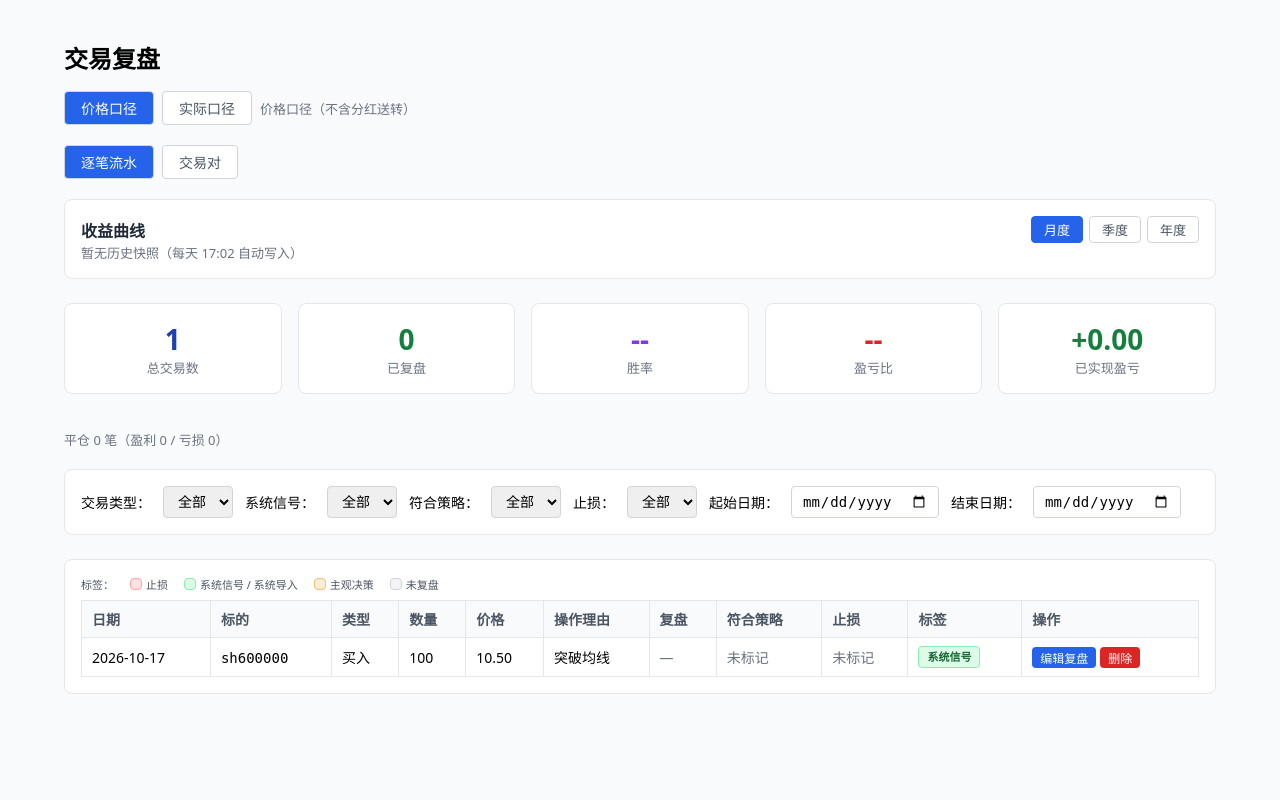
Review · 编辑复盘 3 态弹窗 › 打开弹窗 → 两个三态组初始均为「未标记」选中
Click the button "编辑复盘" at (1064, 657), box [1032, 647, 1096, 668]
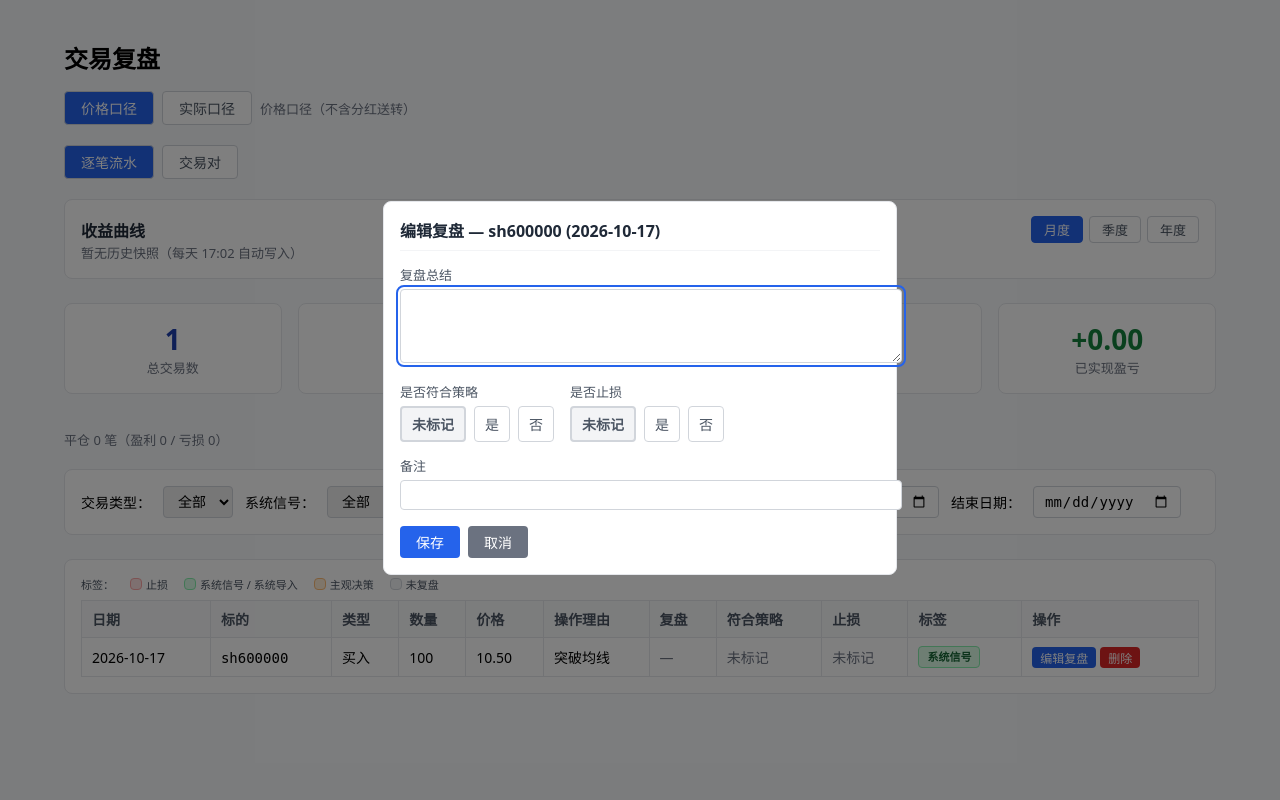
Expected: the text "编辑复盘 — sh600000 (2026-10-17)" is shown, [400, 218, 880, 251]
